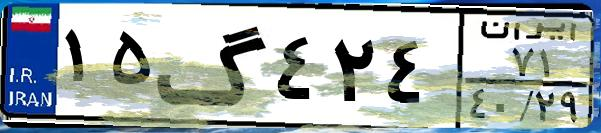0: (495, 70, 520, 125)
1: (57, 26, 110, 100), (537, 27, 568, 80)
2: (330, 28, 385, 110), (535, 70, 560, 125)
4: (270, 28, 330, 110), (385, 28, 445, 110), (470, 70, 495, 125)
5: (110, 28, 156, 98)
7: (508, 27, 537, 80)
9: (560, 70, 590, 125)
گ: (156, 12, 270, 120)
